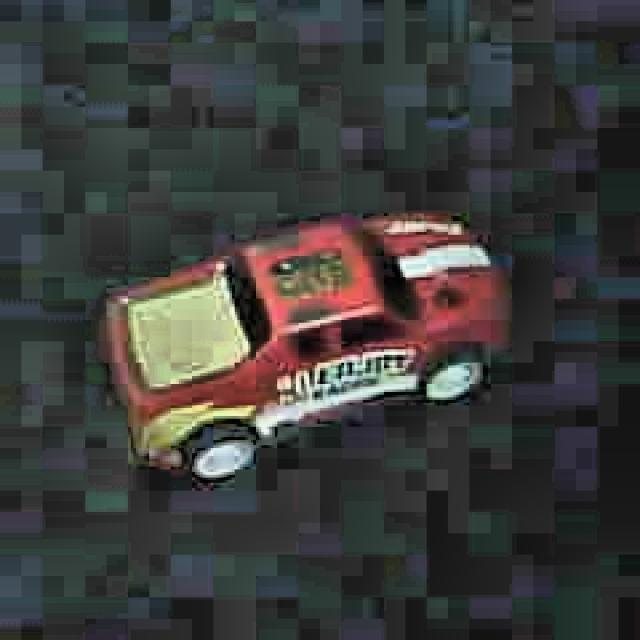car: (99, 204, 507, 488)
